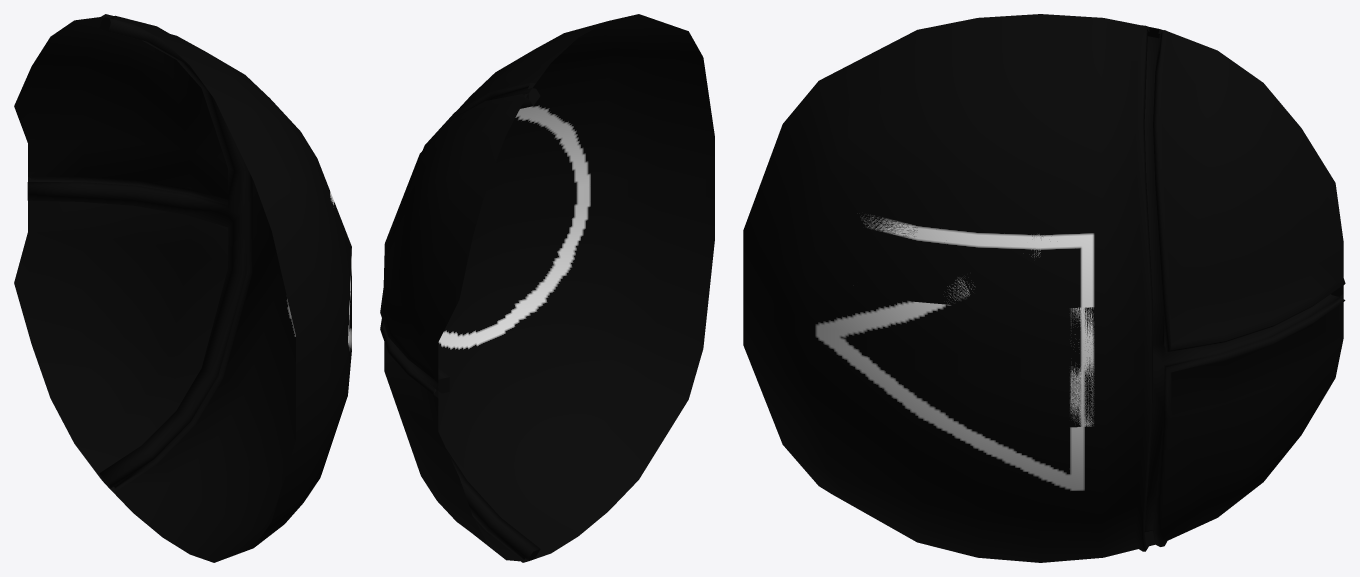
File: EnemyMasks.fbx
The picture shows the model from 3 angles, left to right: view 1: azimuth 30°, elevation 25°; view 2: azimuth 150°, elevation 25°; view 3: azimuth 270°, elevation 25°; orthographic projection. The views are drawn at different scales.
Parts seen in each view (by area): view 1: TriangleMask, SquareMask, CircleMask; view 2: CircleMask, SquareMask; view 3: TriangleMask, CircleMask, SquareMask.
Part boxes in pixels (x1,y1,x2,y2): TriangleMask: [14, 16, 351, 547]; SquareMask: [16, 14, 351, 517]; CircleMask: [27, 16, 295, 562]; CircleMask: [380, 14, 714, 562]; SquareMask: [384, 21, 607, 561]; TriangleMask: [743, 25, 1343, 562]; CircleMask: [1040, 14, 1345, 551]; SquareMask: [743, 14, 1343, 547].
Bounding box in the file's own units: 42.26 × 122 × 122.
